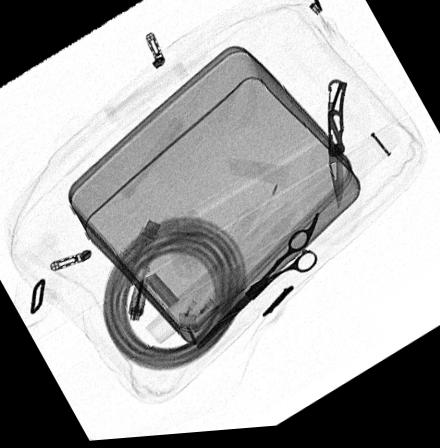Knife: (328, 84, 348, 216)
Scissors: (197, 218, 321, 353)
